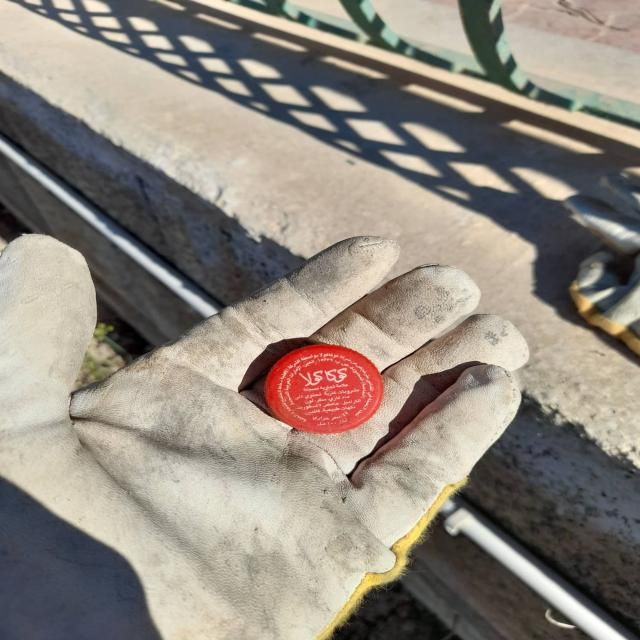Bottle cap: (260, 342, 382, 439)
